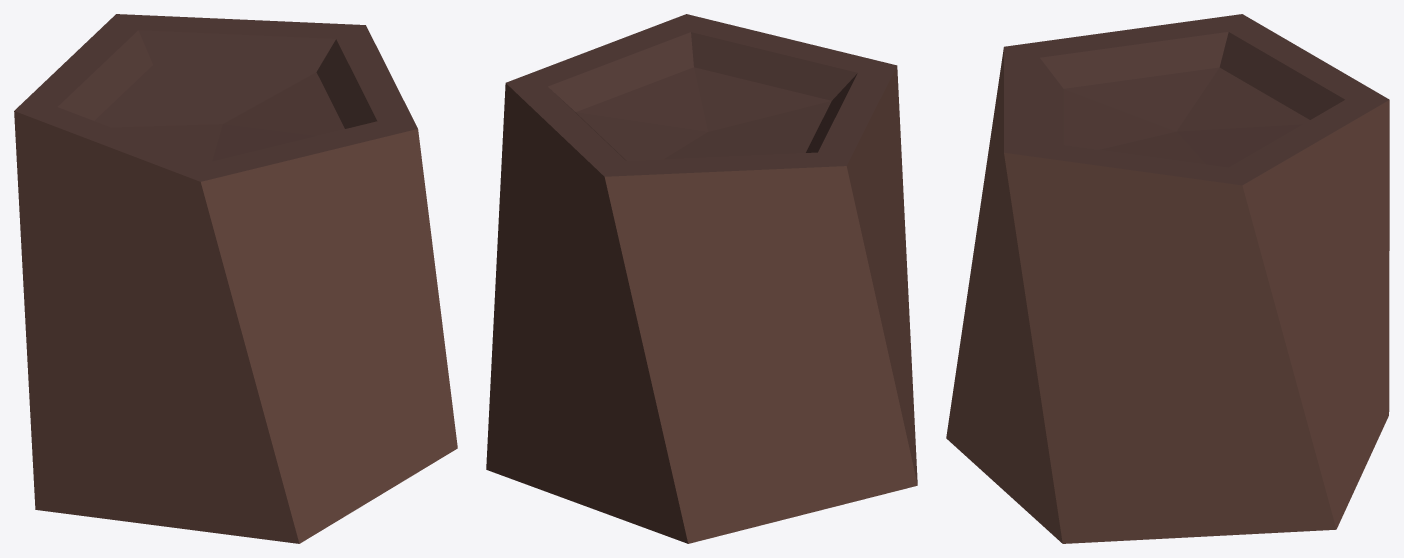
The model's file is Tree_Stump.fbx.
3 views of the same model, side by side, from view 1: azimuth 30°, elevation 25°; view 2: azimuth 150°, elevation 25°; view 3: azimuth 270°, elevation 25° (orthographic). The views are drawn at different scales.
Visible parts, largest first — view 1: Stump; view 2: Stump; view 3: Stump.
Part boxes in pixels (bbox=[...]): Stump: bbox=[14, 14, 457, 543]; Stump: bbox=[486, 14, 917, 543]; Stump: bbox=[946, 14, 1389, 543].
Size of the model in its own units: 0.7403 by 0.6667 by 0.7497.
